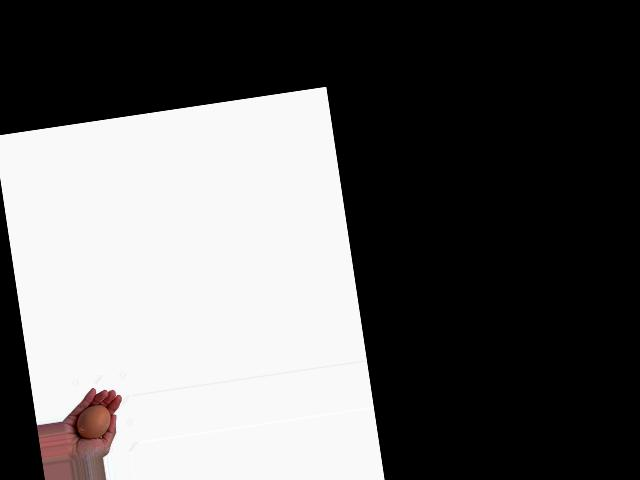egg: (74, 402, 113, 440)
